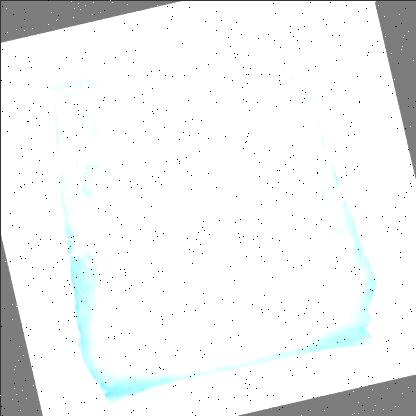Others: (47, 25, 376, 402)
